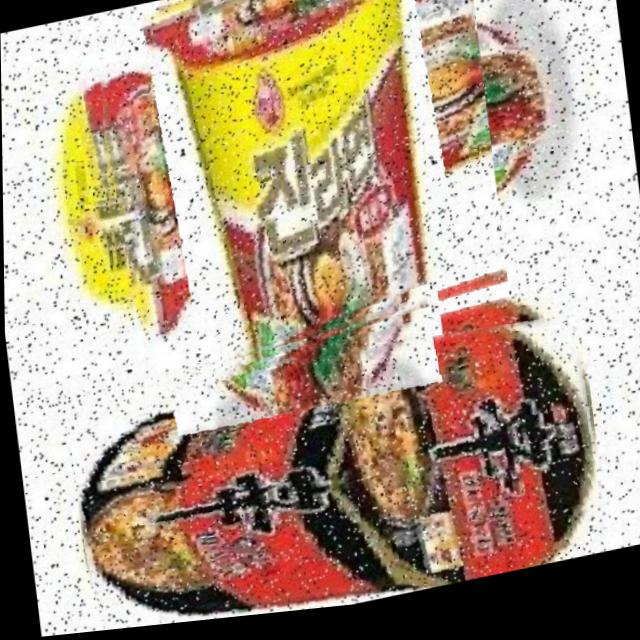Miscellaneous: (63, 294, 610, 635), (75, 0, 510, 396)
